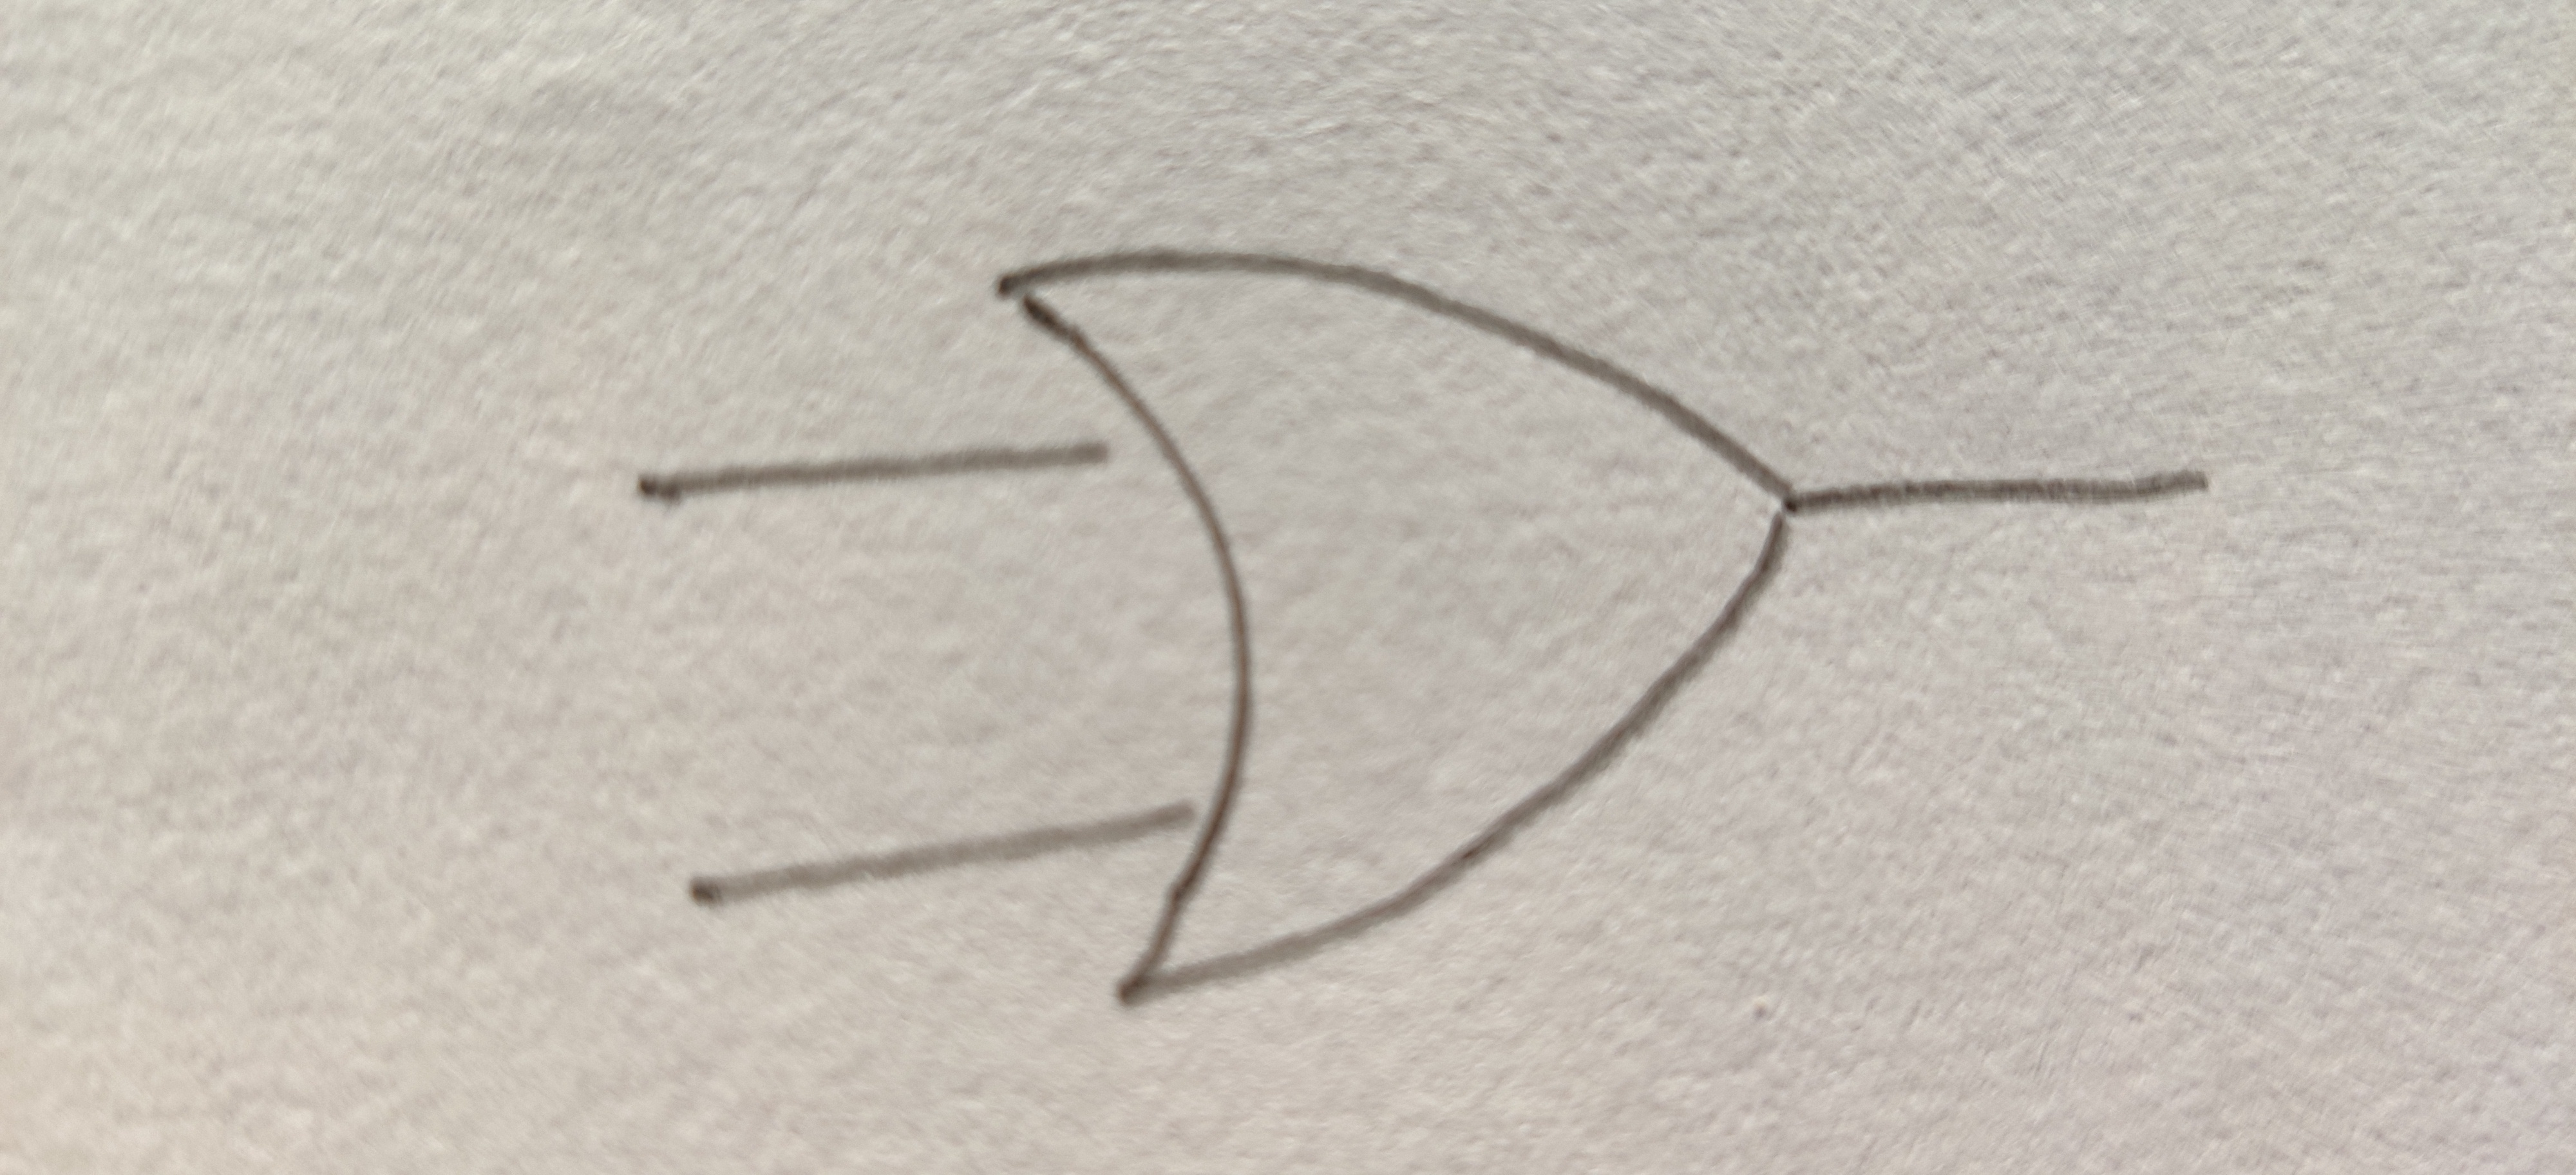or: (999, 256, 1792, 1007)
